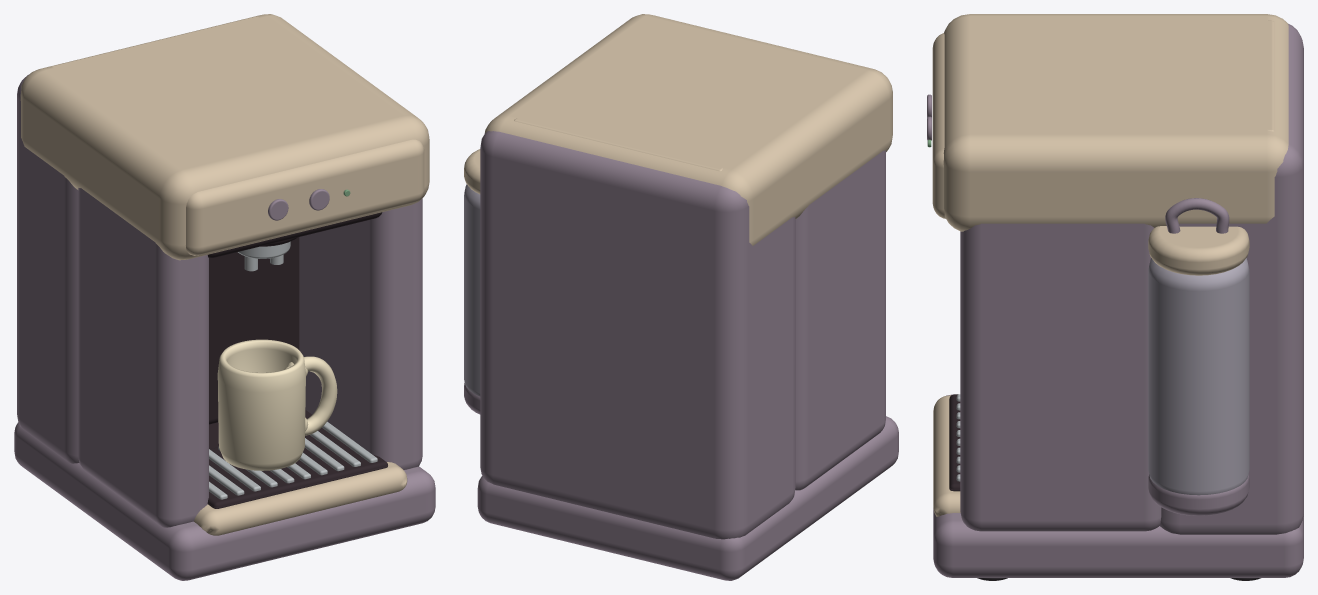
Rendered from coffee_machine.glb.
The picture shows the model from 3 angles, left to right: view 1: azimuth 30°, elevation 25°; view 2: azimuth 150°, elevation 25°; view 3: azimuth 270°, elevation 25°; orthographic projection. The views are drawn at different scales.
Visible parts, largest first — view 1: Beige top section_export, Left bay cheek_export, Right bay cheek_export, Full rear housing_export, Rounded lower housing_export, Front control fascia_export, Plain cream mug_export, Dark inset back wall_export, Drip tray rim_export, Drip tray well_export, Top lid inset_export, Mug handle_export (+3 smaller); view 2: Full rear housing_export, Beige top section_export, Left bay cheek_export, Top lid inset_export, Rounded lower housing_export, Cylindrical water tank_export, Water tank cap_export; view 3: Beige top section_export, Right bay cheek_export, Top lid inset_export, Full rear housing_export, Cylindrical water tank_export, Rounded lower housing_export, Water tank cap_export, Front control fascia_export, Drip tray rim_export, Water tank bottom collar_export, Tank lid handle_export, Drip tray well_export.
Boxes of the visible parts, x1,y1,x2,y2 form: Beige top section_export: (20,14,429,260); Left bay cheek_export: (78,188,208,527); Right bay cheek_export: (299,198,422,469); Full rear housing_export: (17,74,79,463); Rounded lower housing_export: (14,422,435,580); Front control fascia_export: (186,139,424,255); Plain cream mug_export: (217,339,305,470); Dark inset back wall_export: (209,237,299,424); Drip tray rim_export: (194,462,407,535); Drip tray well_export: (207,427,387,508); Top lid inset_export: (50,16,361,129); Mug handle_export: (284,356,337,435); Full rear housing_export: (480,131,795,539); Beige top section_export: (484,14,892,245); Left bay cheek_export: (795,150,885,490); Top lid inset_export: (514,34,837,171); Rounded lower housing_export: (477,416,898,580); Cylindrical water tank_export: (464,184,480,396); Water tank cap_export: (464,149,480,194); Beige top section_export: (943,14,1288,231); Right bay cheek_export: (960,223,1161,531); Top lid inset_export: (1014,20,1274,131); Full rear housing_export: (1159,23,1303,534); Cylindrical water tank_export: (1148,258,1249,495); Rounded lower housing_export: (933,394,1303,577); Water tank cap_export: (1148,226,1249,275); Front control fascia_export: (932,33,945,218); Drip tray rim_export: (933,395,960,516); Water tank bottom collar_export: (1148,474,1249,515); Tank lid handle_export: (1165,198,1229,233); Drip tray well_export: (949,394,960,491).
Size of the model in its own units: 0.321 by 0.4 by 0.305.
